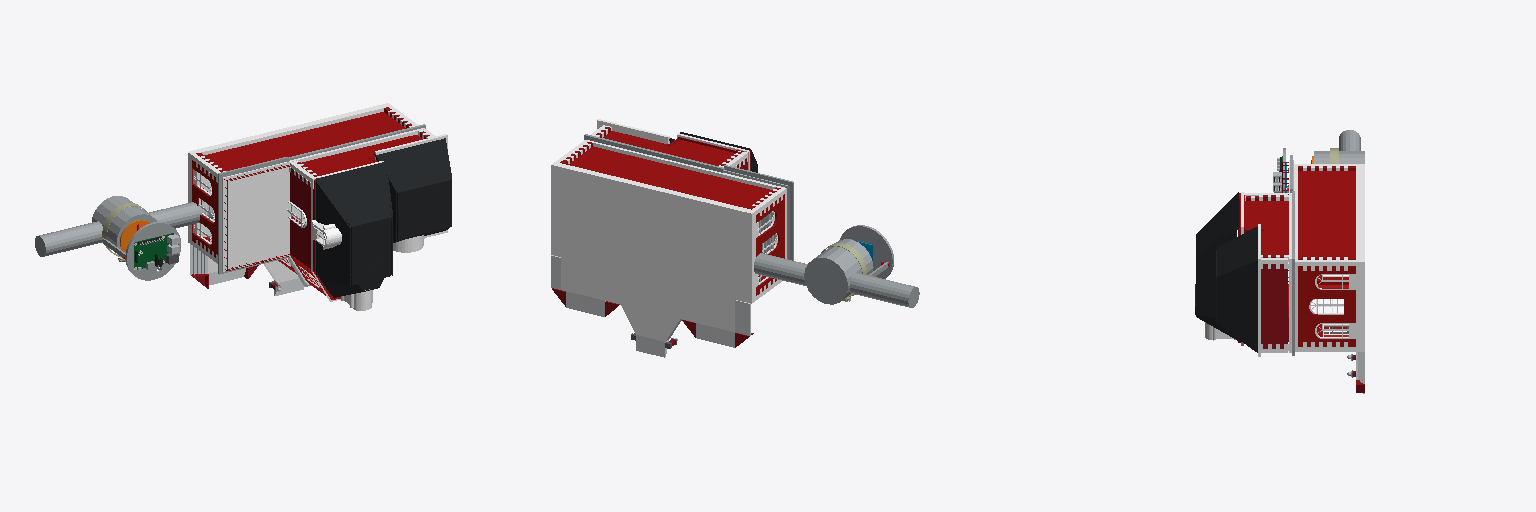
File: tinker.obj
3 renders of one model, left to right at view 1: azimuth 30°, elevation 25°; view 2: azimuth 150°, elevation 25°; view 3: azimuth 270°, elevation 25°, orthographic.
Visible parts, largest first — view 1: obj_0; view 2: obj_0; view 3: obj_0.
Boxes of the visible parts, <box> form: obj_0: <box>35,103,451,310</box>; obj_0: <box>551,119,919,357</box>; obj_0: <box>1195,130,1364,393</box>.
Size of the model in its own units: 761 by 344 by 308.